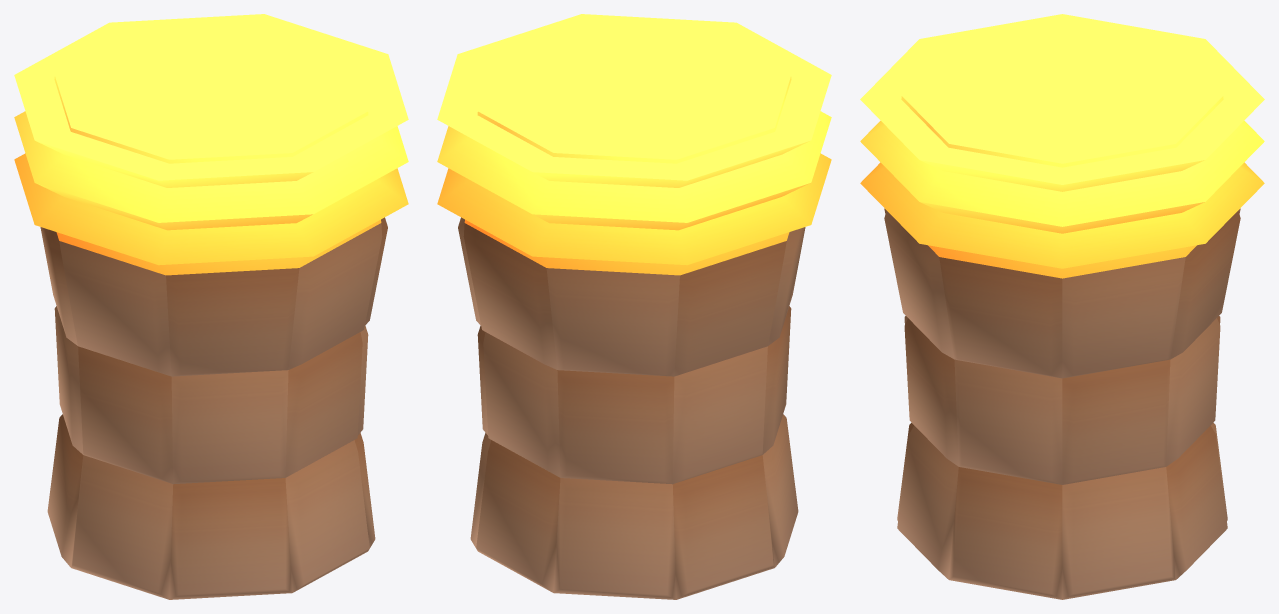
Rendered from gold_grip_004.glb.
3 views of the same model, side by side, from view 1: azimuth 30°, elevation 25°; view 2: azimuth 150°, elevation 25°; view 3: azimuth 270°, elevation 25° (orthographic).
Parts seen in each view (by area): view 1: gold_grip_004; view 2: gold_grip_004; view 3: gold_grip_004.
Part boxes in pixels (bbox=[...]): gold_grip_004: bbox=[14, 14, 408, 599]; gold_grip_004: bbox=[437, 14, 831, 599]; gold_grip_004: bbox=[860, 14, 1264, 599].
Size of the model in its own units: 2.52 by 3 by 2.52.
Materials: 1 (1 with a texture image).
